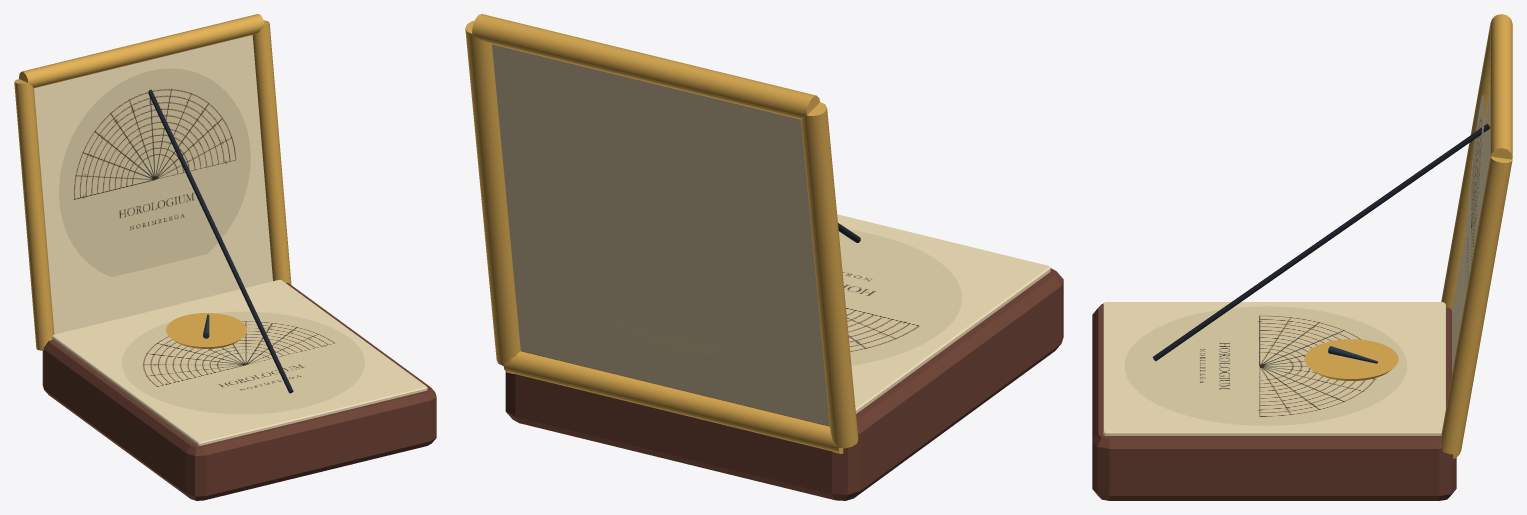
File: diptych_dial.fbx
3 renders of one model, left to right at view 1: azimuth 30°, elevation 25°; view 2: azimuth 150°, elevation 25°; view 3: azimuth 270°, elevation 25°, orthographic. The views are drawn at different scales.
Parts seen in each view (by area): view 1: diptych_dial joinery; view 2: diptych_dial joinery; view 3: diptych_dial joinery.
Boxes of the visible parts, x1,y1,x2,y2 form: diptych_dial joinery: (14,14,436,500); diptych_dial joinery: (465,14,1063,500); diptych_dial joinery: (1092,14,1512,500).
Size of the model in its own units: 0.0792 by 0.0906 by 0.0981.
Materials: 6 (1 with a texture image).
